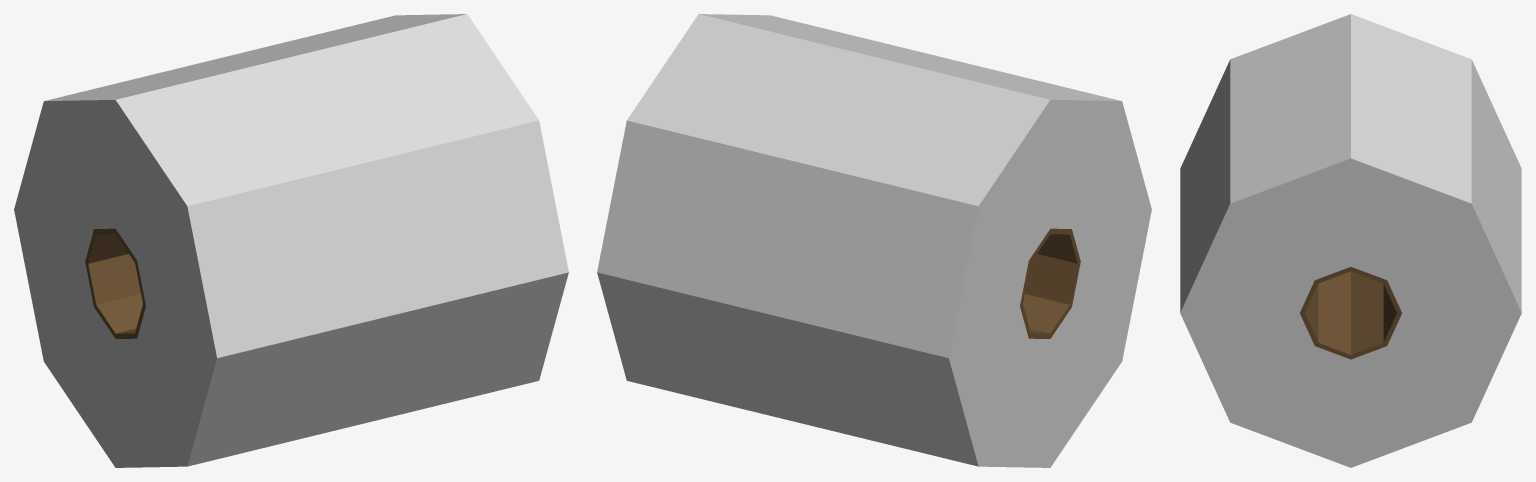
File: Toilet Paper.fbx
3 views of the same model, side by side, from view 1: azimuth 30°, elevation 25°; view 2: azimuth 150°, elevation 25°; view 3: azimuth 270°, elevation 25° (orthographic). The views are drawn at different scales.
Parts seen in each view (by area): view 1: Toilet Paper, Toilet Roll; view 2: Toilet Paper, Toilet Roll; view 3: Toilet Paper, Toilet Roll.
Part boxes in pixels (x1=…): Toilet Paper: x1=14, y1=14, x2=568, y2=467; Toilet Roll: x1=85, y1=228, x2=145, y2=338; Toilet Paper: x1=597, y1=14, x2=1151, y2=467; Toilet Roll: x1=1020, y1=228, x2=1080, y2=338; Toilet Paper: x1=1180, y1=14, x2=1521, y2=467; Toilet Roll: x1=1300, y1=267, x2=1401, y2=359.
Bounding box in the file's own units: 100 × 100 × 100.
